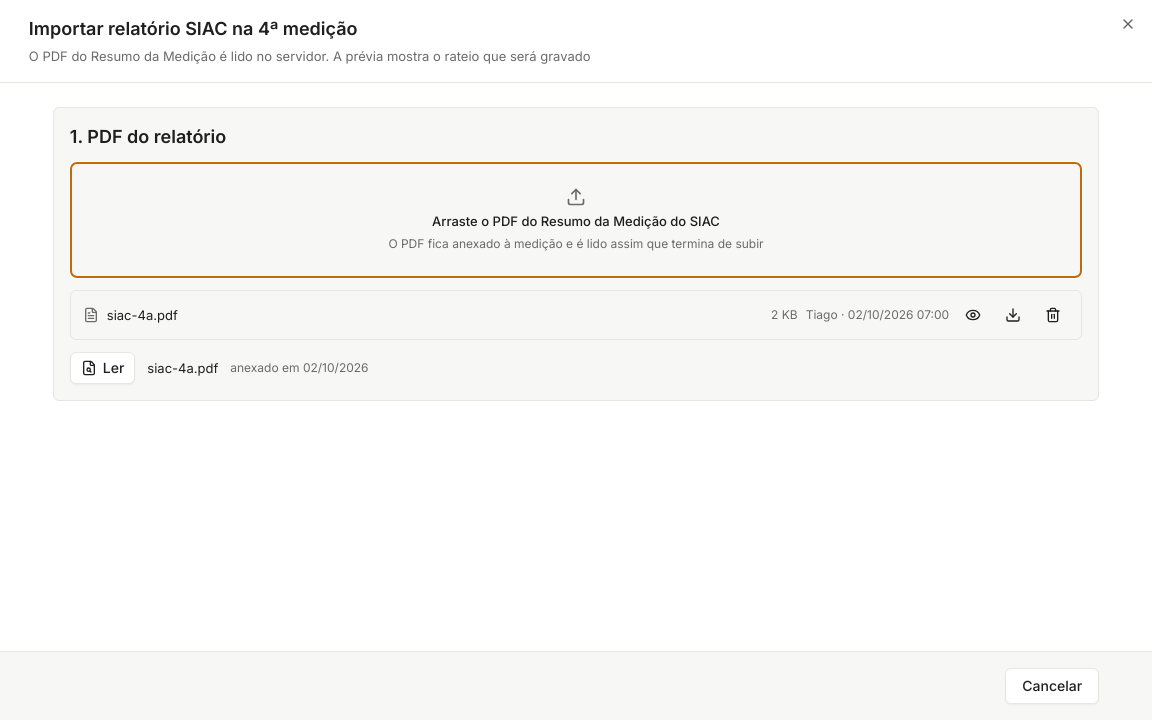
Test: ImportarSiacDrawer › no celular, casamento, itens, destino e rateio ficam no card, sem abrir Mais campos
The image size is (1152, 720).
Click the button with aria-label "Ler siac-4a.pdf" at (103, 368), box [70,352,135,384]
(page scrolled)
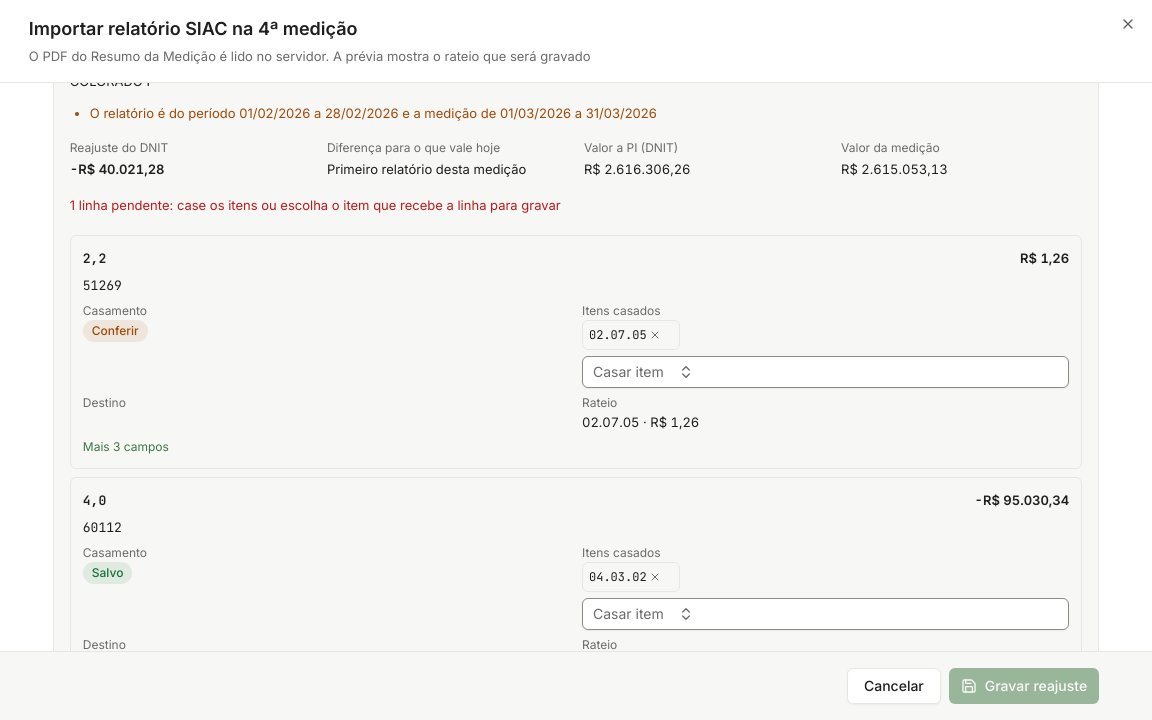
Check: the element that starts with "Casamento" shows "Conferir", box [92,323,139,338]
Check: the element that starts with "Casamento" shows "02.07.05 · R$ 1,26", box [582,414,699,430]
Check: the element that starts with "Casamento" shows "Itens casados", box [582,303,661,318]
